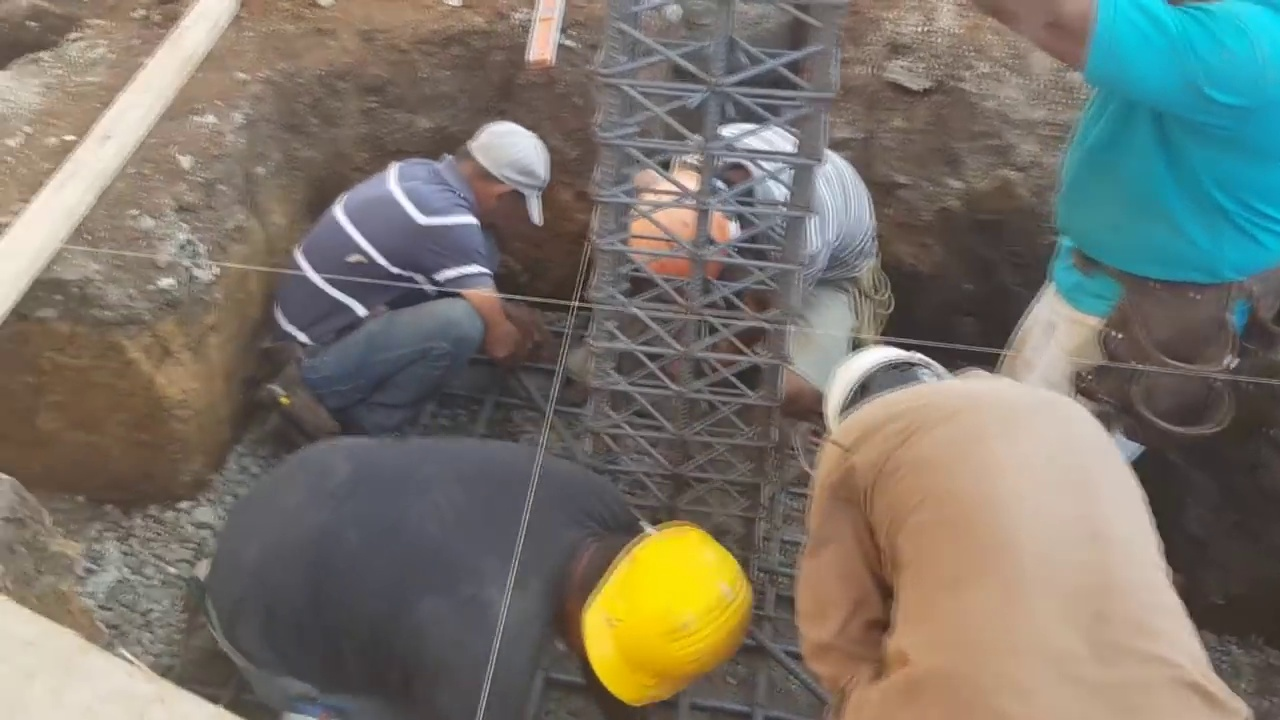helmet: (561, 524, 755, 691), (639, 183, 749, 281)
helmet-off: (455, 118, 554, 233)
helmet-on: (546, 514, 764, 717), (630, 172, 766, 298), (818, 347, 951, 449)
person: (796, 344, 1273, 720), (176, 435, 766, 720), (1006, 3, 1276, 470), (266, 98, 552, 440), (625, 117, 894, 411)
